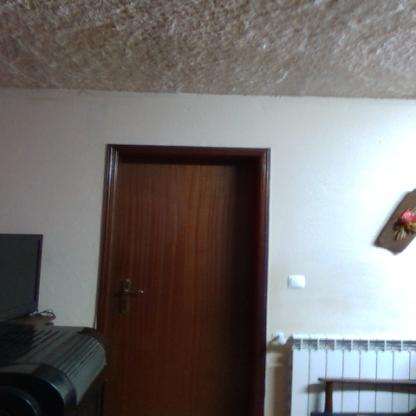closed: (86, 125, 288, 410)
